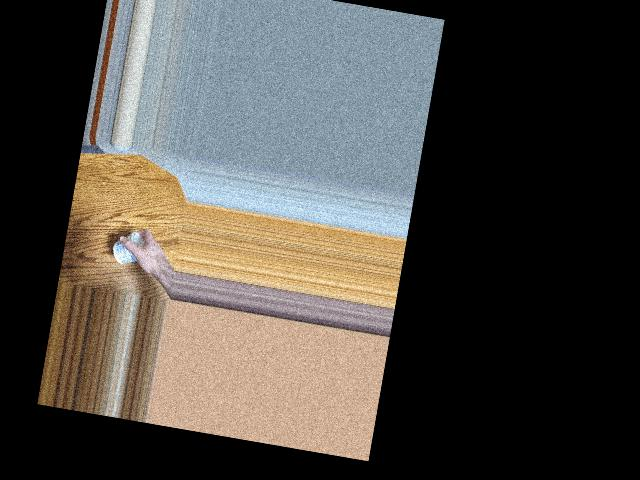cotage: (109, 227, 146, 271)
